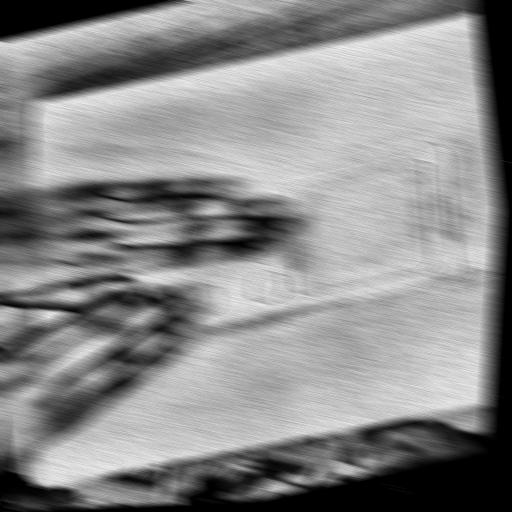bottom_left: (24, 481, 46, 493)
bottom_right: (25, 95, 47, 108)
mobile: (35, 122, 512, 362)
